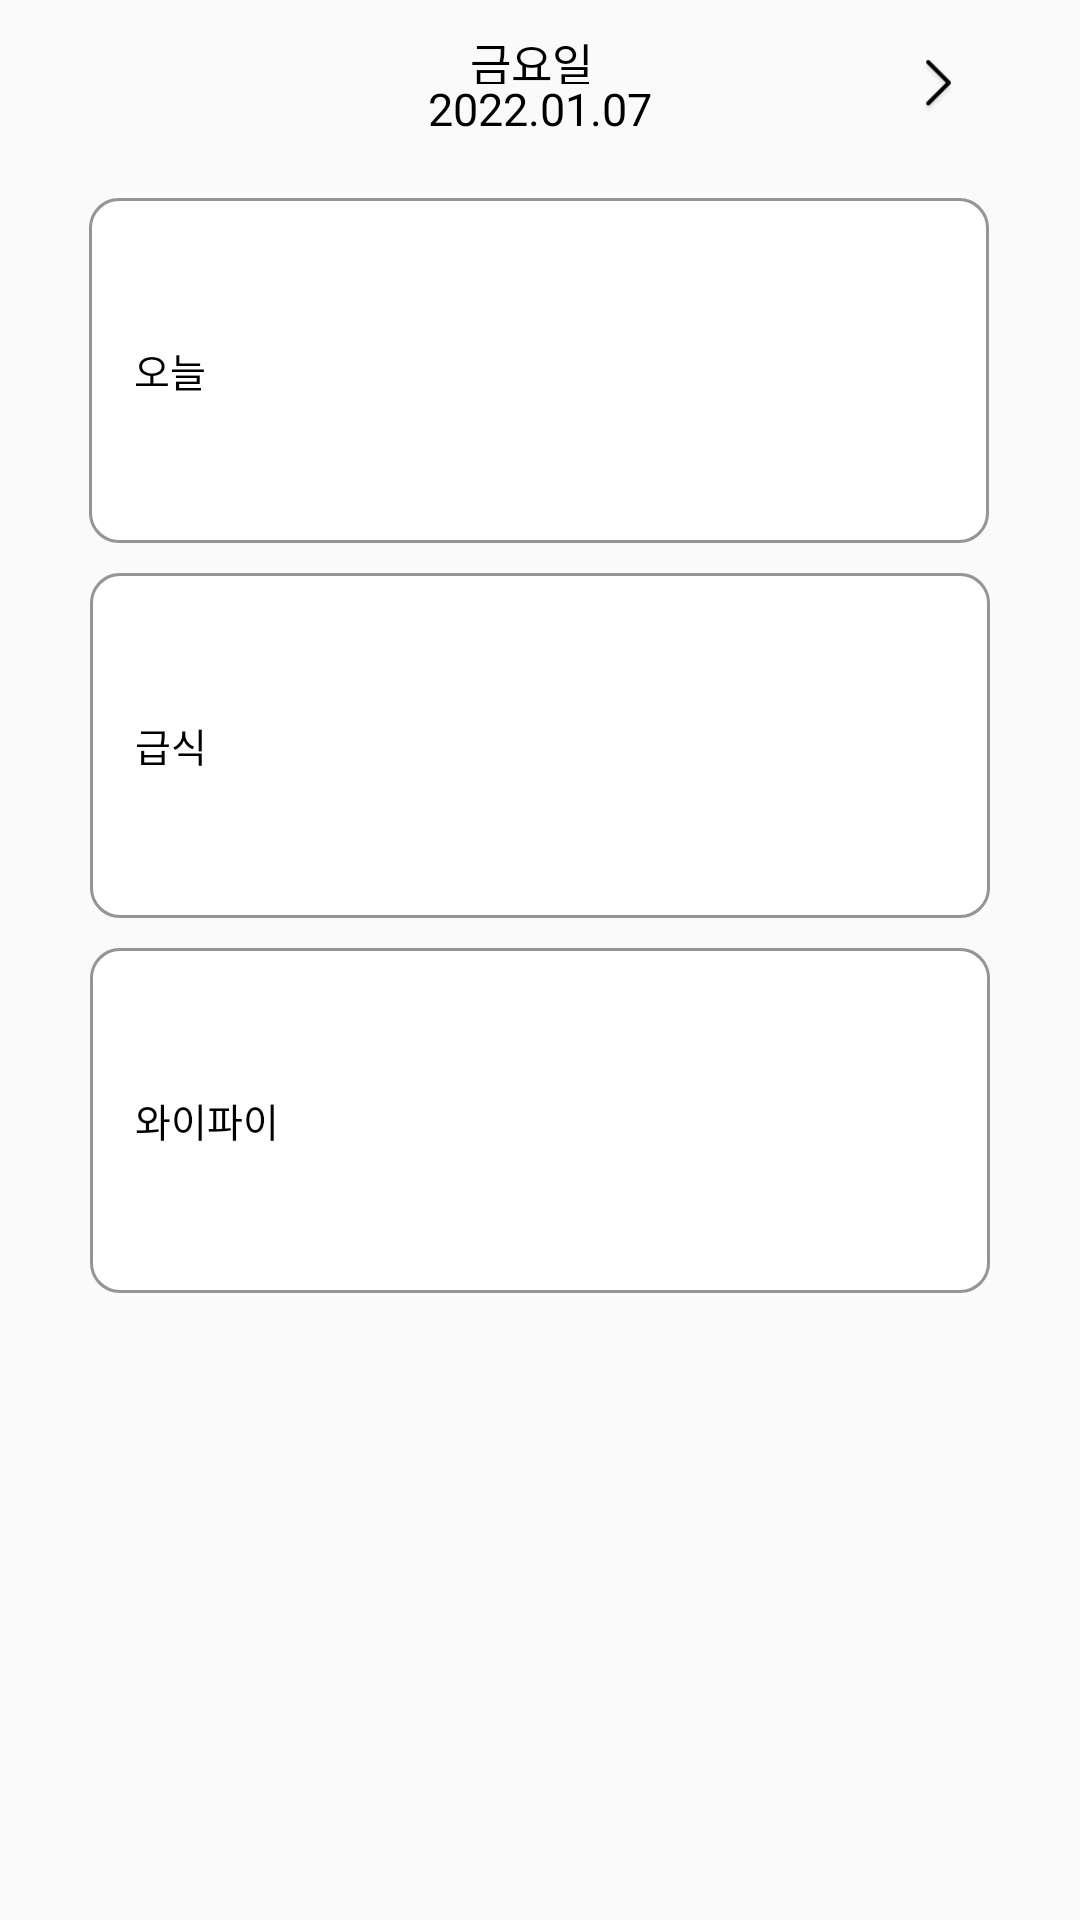

Icon click points for this 1080x1920 phone screenshot, format point (x, y):
back right: point (938, 83)
